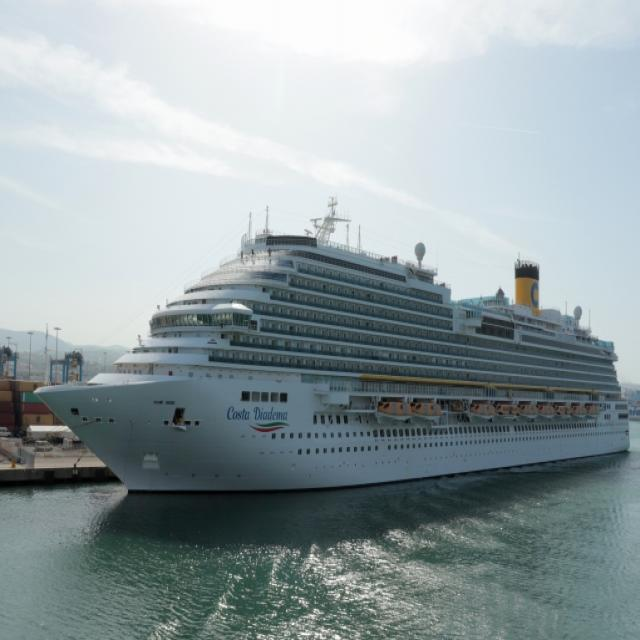cruises: (31, 197, 635, 502)
